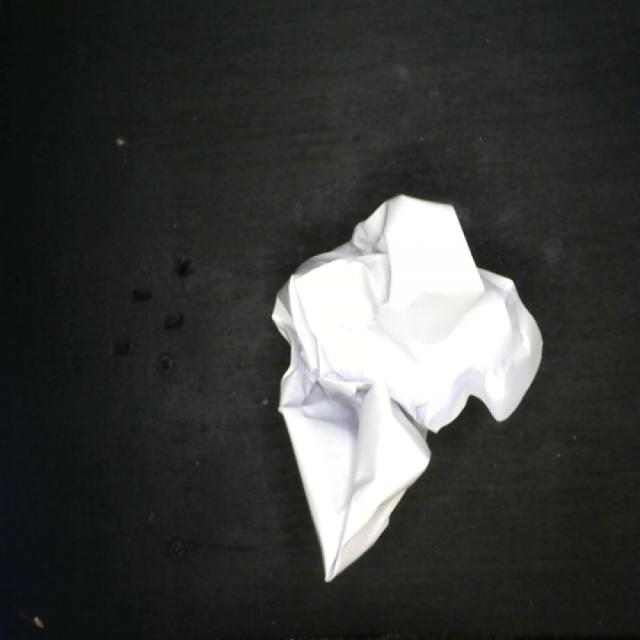biodegradable: (268, 191, 546, 582)
